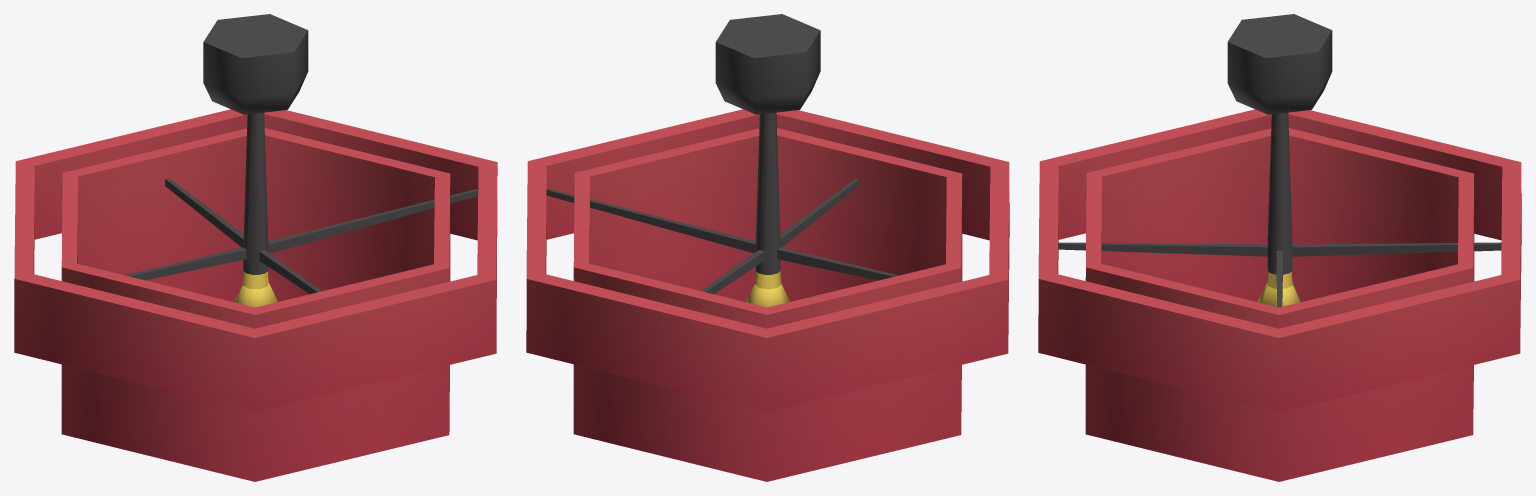
Rendered from SM_Lamp_1_02.fbx.
3 views of the same model, side by side, from view 1: azimuth 30°, elevation 25°; view 2: azimuth 150°, elevation 25°; view 3: azimuth 270°, elevation 25° (orthographic).
Visible parts, largest first — view 1: SM_Lamp_1_02; view 2: SM_Lamp_1_02; view 3: SM_Lamp_1_02.
Boxes of the visible parts, <box> form: SM_Lamp_1_02: <box>14,14,497,481</box>; SM_Lamp_1_02: <box>526,14,1009,481</box>; SM_Lamp_1_02: <box>1038,14,1521,481</box>.
Size of the model in its own units: 77.12 by 53.74 by 67.
